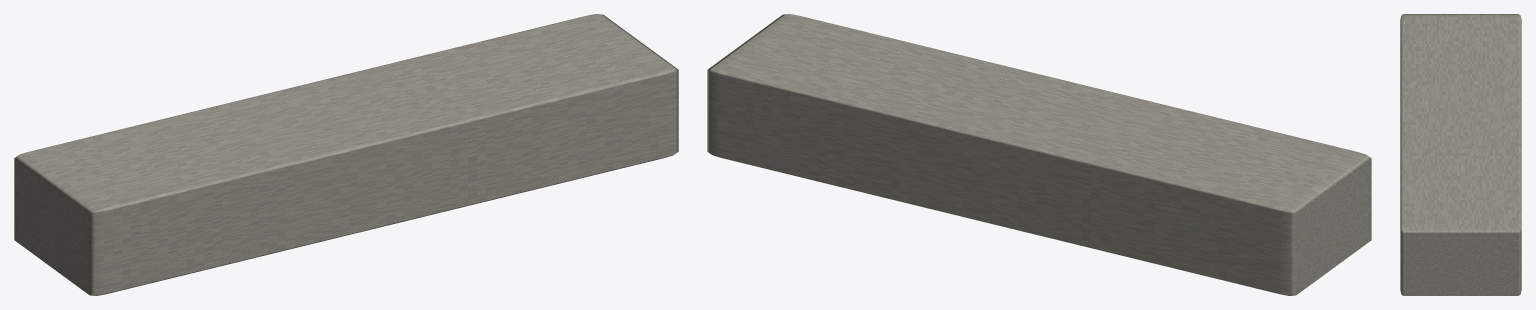
Rendered from step.glb.
3 views of the same model, side by side, from view 1: azimuth 30°, elevation 25°; view 2: azimuth 150°, elevation 25°; view 3: azimuth 270°, elevation 25° (orthographic). The views are drawn at different scales.
Visible parts, largest first — view 1: panel; view 2: panel; view 3: panel.
Boxes of the visible parts, x1,y1,x2,y2 form: panel: (14, 14, 678, 295); panel: (707, 14, 1371, 295); panel: (1400, 14, 1521, 295).
Bounding box in the file's own units: 1.2 × 0.168 × 0.28.
1 material, 1 textured.
